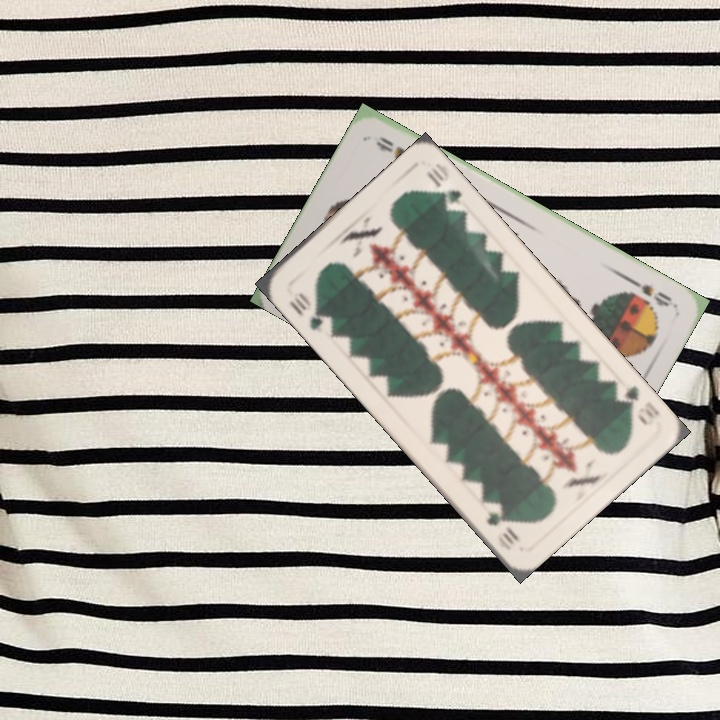G10: (611, 381, 663, 429), (285, 288, 335, 336)
SO: (623, 273, 675, 309)
